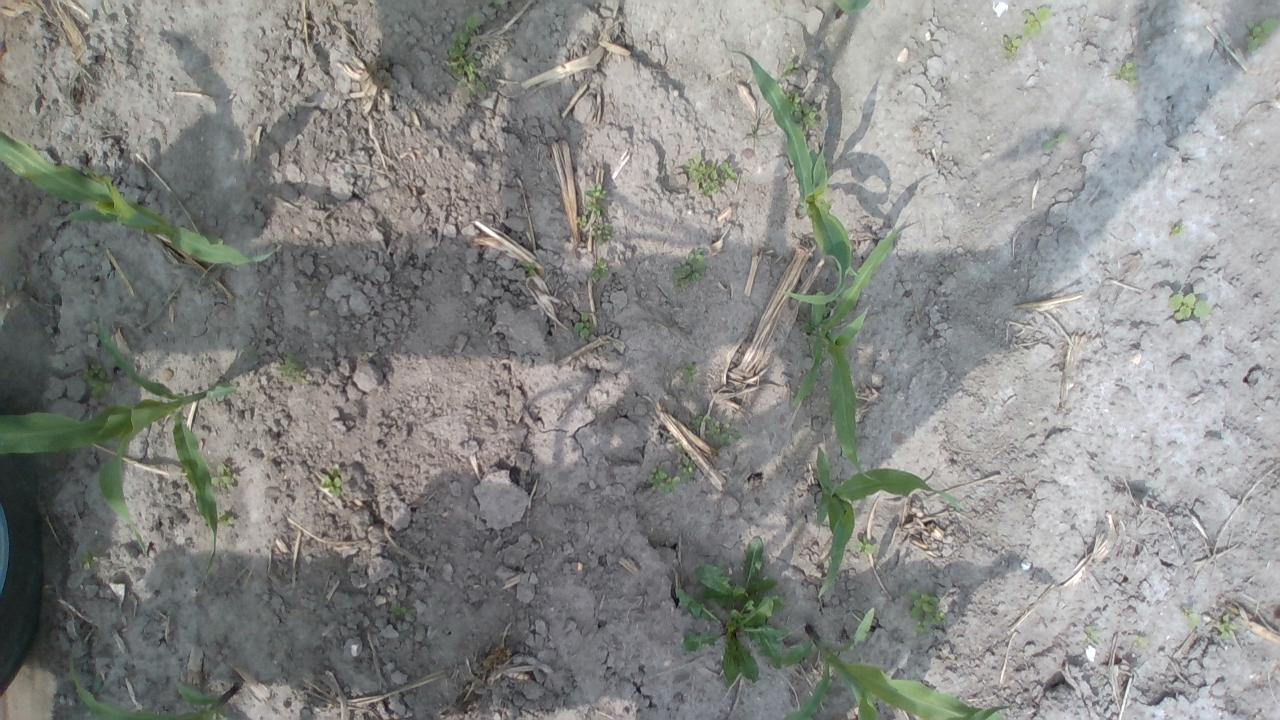Maize: (0, 316, 239, 576), (0, 132, 279, 266), (732, 46, 854, 304), (789, 228, 894, 486), (772, 608, 1012, 720), (810, 447, 960, 598), (66, 649, 240, 720), (834, 0, 871, 19)
Weeds: (670, 537, 790, 689), (446, 16, 488, 98), (687, 408, 743, 450), (681, 156, 738, 195), (906, 588, 950, 634), (781, 88, 820, 130), (672, 250, 706, 288), (80, 360, 114, 398), (1168, 292, 1210, 322), (1246, 16, 1280, 50), (648, 467, 684, 495), (1021, 6, 1050, 35), (278, 352, 306, 382), (320, 464, 344, 496), (1109, 62, 1138, 87), (210, 464, 236, 488), (573, 312, 595, 339), (1042, 130, 1067, 153), (592, 223, 614, 246), (590, 258, 610, 282), (680, 360, 699, 385), (1002, 33, 1022, 56), (676, 456, 698, 476), (1183, 608, 1202, 631), (388, 602, 411, 620), (854, 536, 877, 554), (1218, 623, 1240, 641), (584, 184, 607, 200), (78, 550, 96, 570), (216, 510, 236, 528), (517, 259, 535, 274), (1086, 625, 1100, 644), (782, 61, 800, 74), (1169, 223, 1184, 238), (576, 214, 592, 228), (486, 0, 508, 9), (1135, 635, 1148, 648), (580, 204, 600, 211), (848, 266, 860, 277), (672, 442, 684, 452)
